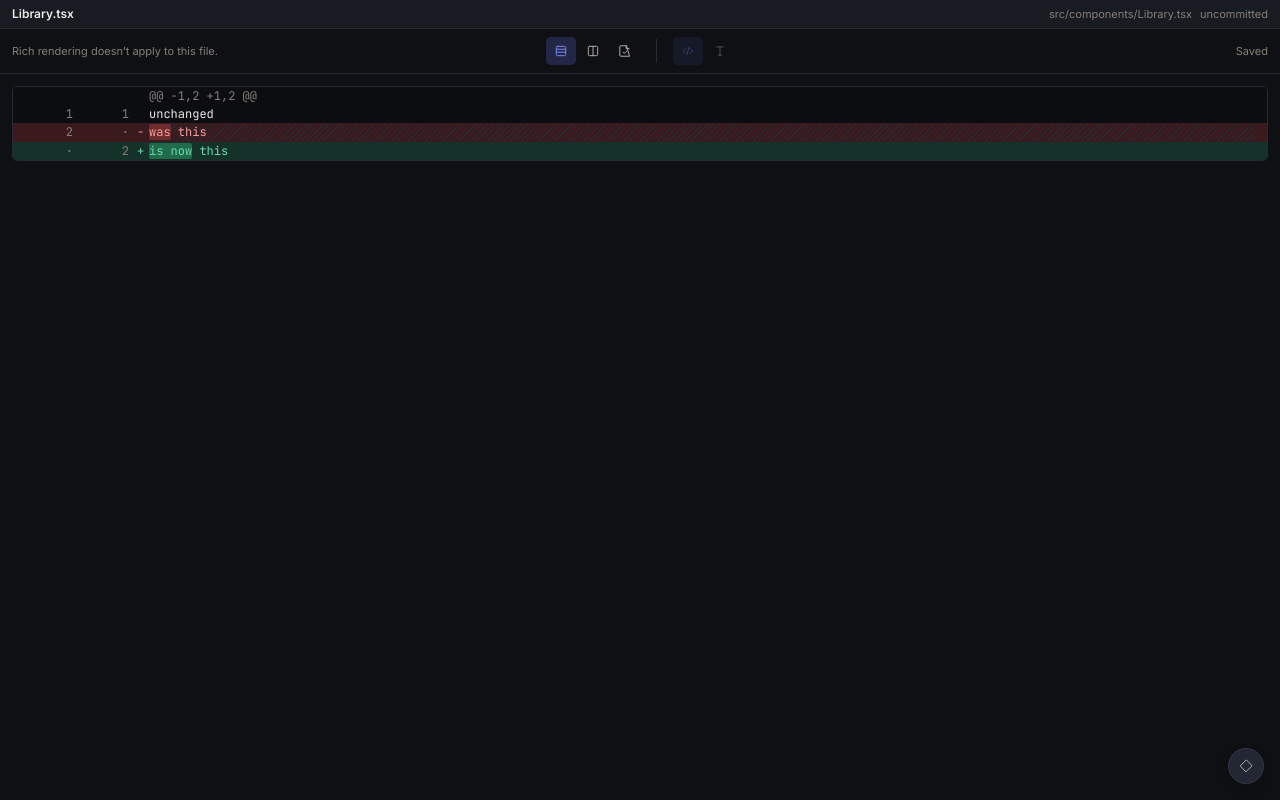
it: DiffView scroll memory › DFV-FR-52, DFV-FR-YMJA: a switch to side-by-side in the open tab keeps the offset on the new scroller
(page scrolled)
Check: the element showing "@@ -1,2 +1,2 @@" is shown, box [13,87,1267,105]
Check: the element with class "diff-view__body" is shown, box [12,86,1268,161]
Click the radio button named "Side-by-side": (592, 51) [578,37,608,65]
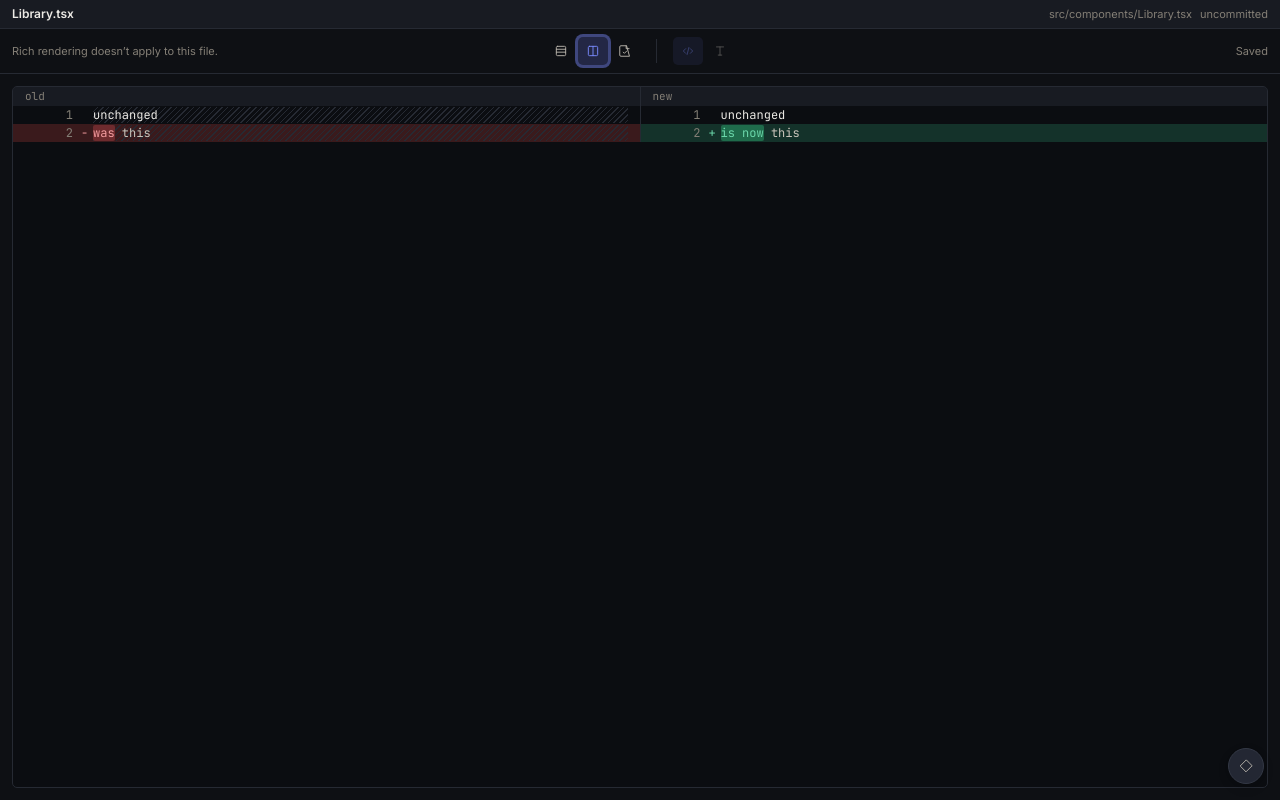
Check: the element with class "diff-sbs__scroll" is shown, box [13,106,1267,142]
